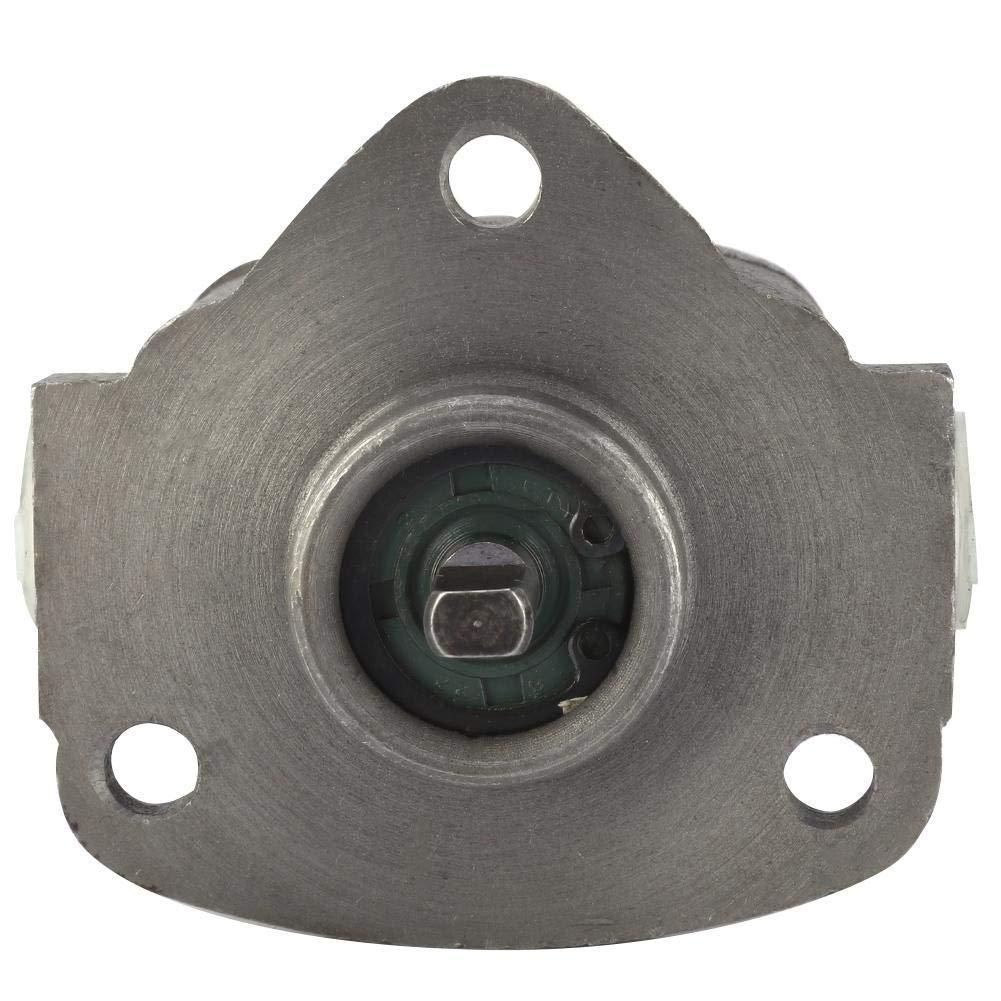hole: (439, 118, 546, 236), (106, 706, 204, 830), (776, 726, 878, 832)
